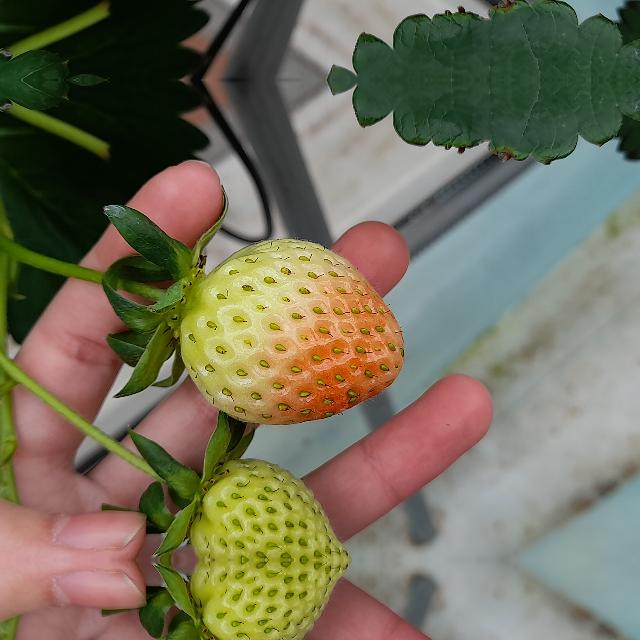Health_50: (180, 238, 404, 424)
